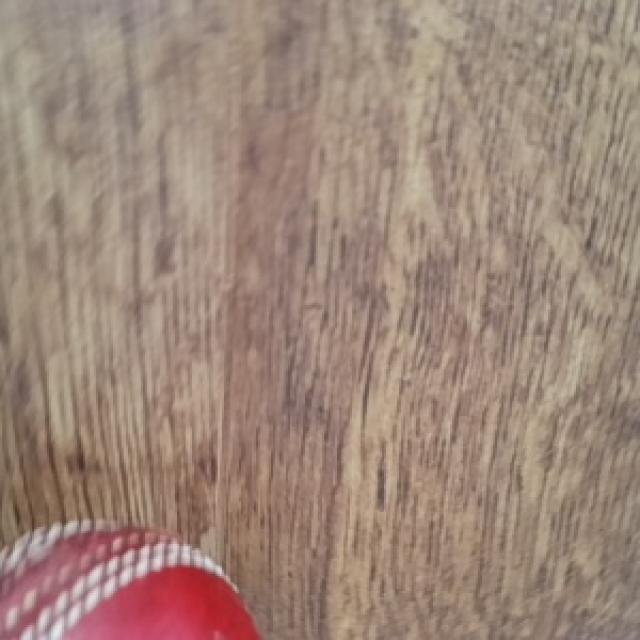ball: (0, 525, 265, 640)
